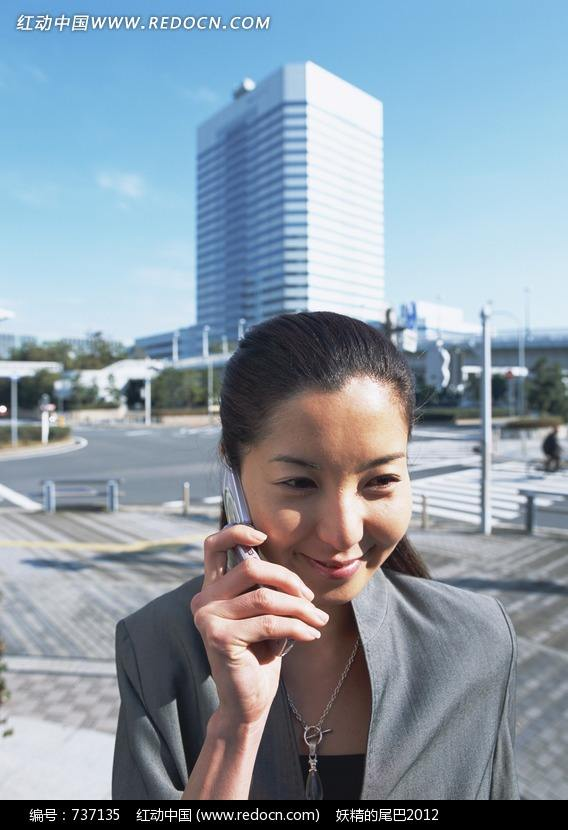phone: (200, 461, 286, 672)
talk: (172, 412, 387, 716)
